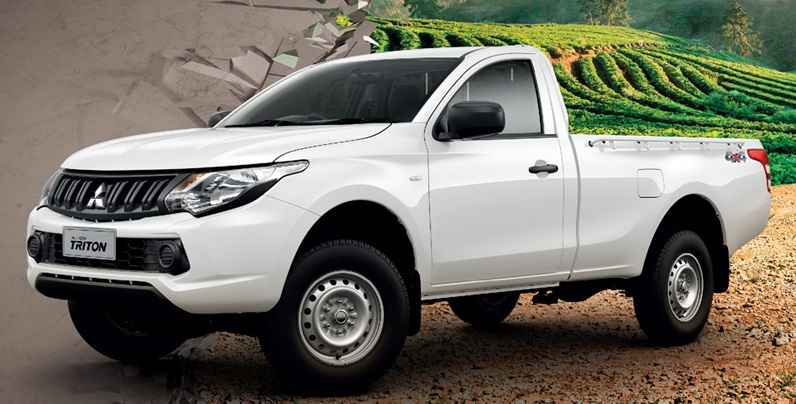pickup: (23, 44, 773, 388)
